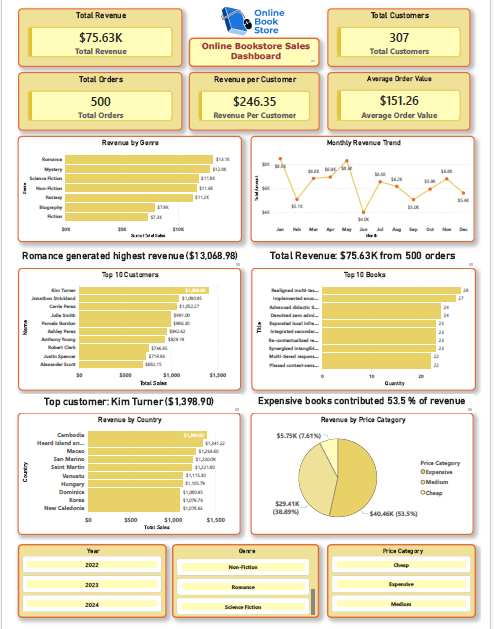

The page's visual inventory and layout, read from the dashboard file:
{"tool":"powerbi","page":{"name":"Executive Dashboard","canvas":[1200,1600],"ordinal":0},"visuals":[{"type":"cardVisual","title":"Total Revenue","fields":{"Data":["online_bookstore_final.Total Revenue"]},"box":[16.7,20,420,150],"z":0},{"type":"cardVisual","title":"Total Orders","fields":{"Data":["online_bookstore_final.Total Orders"]},"box":[16.7,183.3,420,150],"z":1000},{"type":"cardVisual","title":"Total Customers","fields":{"Data":["online_bookstore_final.Total Customers"]},"box":[806.7,20,366.7,150],"z":2000},{"type":"cardVisual","title":"Average Order Value","fields":{"Data":["online_bookstore_final.Average Order Value"]},"box":[806.7,183.3,366.7,150],"z":3000},{"type":"clusteredBarChart","title":"Revenue by Genre","fields":{"Category":["online_bookstore_final.Genre"],"Y":["Sum(online_bookstore_final.Total Sales)"]},"box":[16,345.6,572.8,272],"z":4000},{"type":"barChart","title":"Top 10 Customers","fields":{"Category":["online_bookstore_final.Name"],"Y":["Sum(online_bookstore_final.Total Sales)"]},"box":[16.7,683.3,570,313.3],"z":5000},{"type":"barChart","title":"Top 10 Books","fields":{"Category":["online_bookstore_final.Title"],"Y":["Sum(online_bookstore_final.Quantity)"]},"box":[613.3,683.3,573.3,313.3],"z":6000},{"type":"lineChart","title":"Monthly Revenue Trend","fields":{"Category":["online_bookstore_final.Month_Name"],"Y":["Sum(online_bookstore_final.Total Sales)"]},"box":[611.2,345.6,572.8,272],"z":7000},{"type":"pieChart","title":"Revenue by Price Category","fields":{"Category":["online_bookstore_final.Price Category"],"Y":["Sum(online_bookstore_final.Total Sales)"]},"box":[611.2,1052.8,569.6,313.6],"z":8000},{"type":"barChart","title":"Revenue by Country","fields":{"Category":["online_bookstore_final.Country"],"Y":["Sum(online_bookstore_final.Total Sales)"]},"box":[16,1052.8,569.6,313.6],"z":9000},{"type":"advancedSlicerVisual","fields":{"Values":["online_bookstore_final.Year"]},"box":[16,1388.8,380.8,188.8],"z":10000},{"type":"advancedSlicerVisual","fields":{"Values":["online_bookstore_final.Genre"]},"box":[409.6,1388.8,377.6,188.8],"z":11000},{"type":"advancedSlicerVisual","fields":{"Values":["online_bookstore_final.Price Category"]},"box":[806.4,1388.8,380.8,188.8],"z":12000},{"type":"textbox","title":"Romance generated highest revenue ($13,068.98)","box":[19.2,636.8,569.6,44.8],"z":16000},{"type":"textbox","title":"Expensive books contributed 53.5 % of revenue","box":[611.2,1008,569.6,44.8],"z":17000},{"type":"textbox","title":"Total Revenue: $75.63K from 500 orders","box":[614.4,636.8,569.6,44.8],"z":18000},{"type":"textbox","title":"Top customer: Kim Turner ($1,398.90)","box":[16,1008,569.6,44.8],"z":19000},{"type":"image","box":[496.7,8.3,241.7,86.7],"z":19500},{"type":"textbox","title":"                                                                                  Online Bookstore Sales Dashboard","box":[453.3,95,335,75],"z":20500},{"type":"cardVisual","title":"Revenue per Customer","fields":{"Data":["online_bookstore_final.Revenue Per Customer"]},"box":[453.3,183.3,335,150],"z":20501}]}

Visuals, with their boxes in screenshot pixels (x1, y1, x2, y2):
"Total Revenue" cardVisual: {"x1": 18, "y1": 11, "x2": 181, "y2": 69}
"Total Orders" cardVisual: {"x1": 18, "y1": 74, "x2": 181, "y2": 132}
"Total Customers" cardVisual: {"x1": 324, "y1": 11, "x2": 466, "y2": 69}
"Average Order Value" cardVisual: {"x1": 324, "y1": 74, "x2": 466, "y2": 132}
"Revenue by Genre" clusteredBarChart: {"x1": 18, "y1": 137, "x2": 240, "y2": 243}
"Top 10 Customers" barChart: {"x1": 18, "y1": 268, "x2": 239, "y2": 390}
"Top 10 Books" barChart: {"x1": 249, "y1": 268, "x2": 472, "y2": 390}
"Monthly Revenue Trend" lineChart: {"x1": 248, "y1": 137, "x2": 470, "y2": 243}
"Revenue by Price Category" pieChart: {"x1": 248, "y1": 411, "x2": 469, "y2": 533}
"Revenue by Country" barChart: {"x1": 18, "y1": 411, "x2": 239, "y2": 533}
advancedSlicerVisual - online_bookstore_final.Year: {"x1": 18, "y1": 542, "x2": 165, "y2": 615}
advancedSlicerVisual - online_bookstore_final.Genre: {"x1": 170, "y1": 542, "x2": 317, "y2": 615}
advancedSlicerVisual - online_bookstore_final.Price Category: {"x1": 324, "y1": 542, "x2": 472, "y2": 615}
"Romance generated highest revenue ($13,068.98)" textbox: {"x1": 19, "y1": 250, "x2": 240, "y2": 268}
"Expensive books contributed 53.5 % of revenue" textbox: {"x1": 248, "y1": 394, "x2": 469, "y2": 411}
"Total Revenue: $75.63K from 500 orders" textbox: {"x1": 250, "y1": 250, "x2": 470, "y2": 268}
"Top customer: Kim Turner ($1,398.90)" textbox: {"x1": 18, "y1": 394, "x2": 239, "y2": 411}
image: {"x1": 204, "y1": 6, "x2": 298, "y2": 40}
"                                                                                  Online Bookstore Sales Dashboard" textbox: {"x1": 187, "y1": 40, "x2": 317, "y2": 69}
"Revenue per Customer" cardVisual: {"x1": 187, "y1": 74, "x2": 317, "y2": 132}
